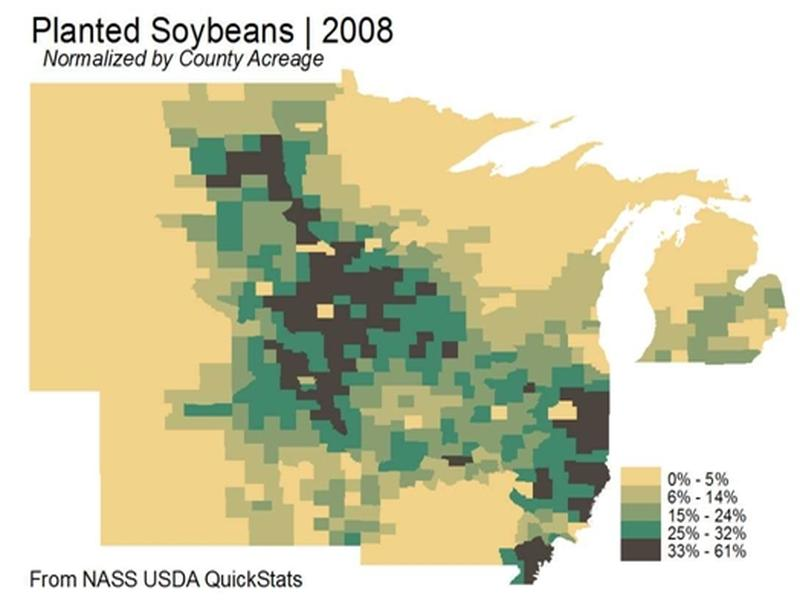legend: (617, 464, 749, 564)
